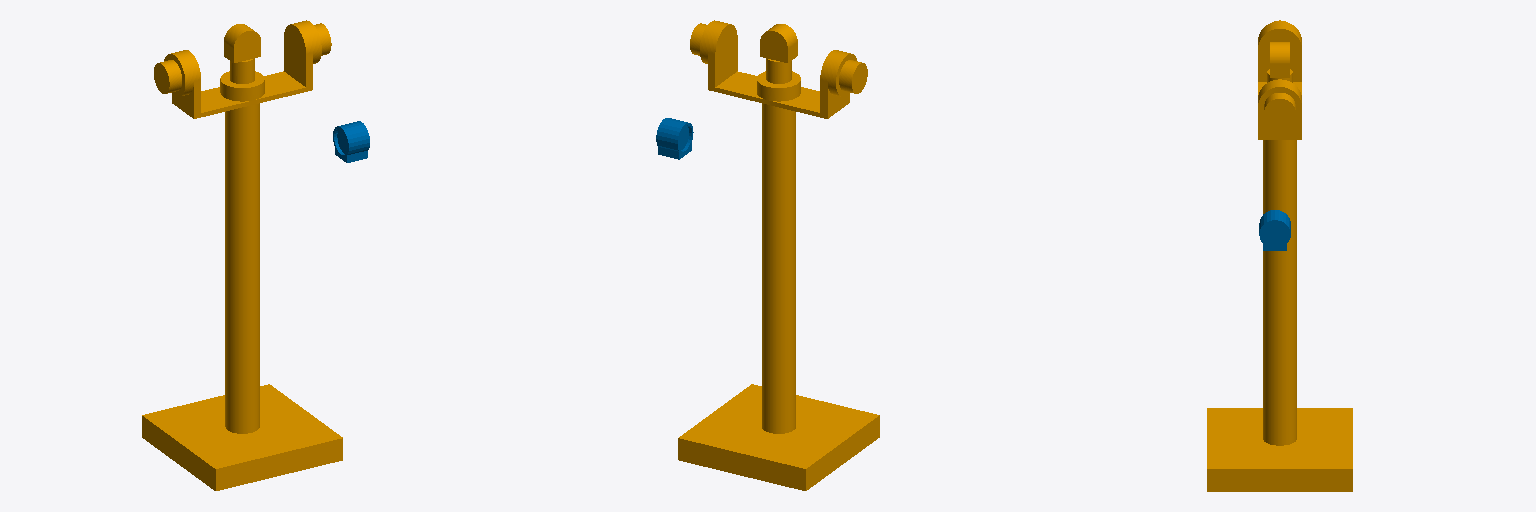
URDF robot description (test_robot):
<?xml version="1.0" ?>
<robot name="test_robot">

  <material name="black">
    <color rgba="0.0 0.0 0.0 1.0"/>
  </material>
  <material name="orange">
    <color rgba="1.0 0.4 0.0 1.0"/>
  </material>

<!--		 base 		-->
<link name="base">
    <collision>
    <origin rpy="0 0 0" xyz="0 0 0.05"/>
      	<geometry>
        <mesh filename="package://irl_dual_arm/urdf/mesh/base.dae" scale="1 1 1"/>
      	</geometry>
    </collision>
    <visual>
    <origin rpy="0 0 0" xyz="0 0 0.05"/>
 	<geometry>
        <mesh filename="package://irl_dual_arm/urdf/mesh/base.dae" scale="1 1 1"/>
      </geometry>
    </visual>
  </link>

  <joint name="joint1" type="revolute">
    <parent link="base"/>
    <child link="link1"/>
    <origin rpy="1.571 0 1.571" xyz="0.19 0 0.88"/>
    <axis xyz="0 0 1"/>
    <limit effort="30" lower="-1.0467" upper="3.14" velocity="1.571"/>
  </joint>

<!-- 		link1 		-->
  <link name="link1">
    <collision>
      <origin rpy="0 0 1.571" xyz="0 0 0"/>
      <geometry>
        <mesh filename="package://irl_dual_arm/urdf/mesh/link1.dae" scale="1 1 1"/>
      </geometry>
    </collision>
    <visual>
      <origin rpy="0 0 1.571" xyz="0 0 0"/>
      <geometry>
        <mesh filename="package://irl_dual_arm/urdf/mesh/link1.dae" scale="1 1 1"/>
      </geometry>
    </visual>
    <inertial>
      <origin rpy="0 0 1.571" xyz="0 0 0"/>
      <mass value="1"/>
      <inertia ixx="1.0" ixy="0.0" ixz="0.0" iyy="1.0" iyz="0.0" izz="1.0"/>
    </inertial>
  </link>

  <joint name="joint2" type="revolute">
    <parent link="link1"/>
    <child link="link2"/>
    <origin rpy="0 1.571 0" xyz="-0.04 0 0.06"/>
    <axis xyz="0 0 1"/>
    <limit effort="30" lower="-2.355" upper="0.3489" velocity="1.571"/>
  </joint>

<!-- link2 -->
  <link name="link2">
    <collision>
      <origin rpy="0 0 0" xyz="0 0 0"/>
       <geometry>
        <mesh filename="package://irl_dual_arm/urdf/mesh/link2.dae" scale="1 1 1"/>
      </geometry>
    </collision>
    <visual>
      <origin rpy="0 0 0" xyz="0 0 0"/>
      <geometry>
        <mesh filename="package://irl_dual_arm/urdf/mesh/link2.dae" scale="1 1 1"/>
      </geometry>
    </visual>
    <inertial>
      <origin rpy="0 0 0" xyz="0 0 0"/>
      <mass value="1"/>
      <inertia ixx="1.0" ixy="0.0" ixz="0.0" iyy="1.0" iyz="0.0" izz="1.0"/>
    </inertial>
  </link>

  <joint name="joint3" type="revolute">
    <parent link="link2"/>
    <child link="link3"/>
    <origin rpy="1.571 0 0" xyz="0 -0.04 0.03"/>		
    <axis xyz="0 0 1"/>
    <limit effort="30" lower="-1.74" upper="0.611" velocity="1.571"/>
  </joint>

<!-- link3 -->
  <link name="link3">
      <collision>
      <origin rpy="0 0 0" xyz="0 0 0"/>
       <geometry>
        <mesh filename="package://irl_dual_arm/urdf/mesh/link3.dae" scale="1 1 1"/>
      </geometry>
    </collision>
    <visual>
      <origin rpy="0 0 3.14" xyz="0 0 0"/>
      <geometry>
        <mesh filename="package://irl_dual_arm/urdf/mesh/link3.dae" scale="1 1 1"/>
      </geometry>
    </visual>
    <inertial>
      <origin rpy="0 0 0" xyz="0 0 0"/>
      <mass value="1"/>
      <inertia ixx="1.0" ixy="0.0" ixz="0.0" iyy="1.0" iyz="0.0" izz="1.0"/>
    </inertial>
  </link>


  <joint name="joint4" type="revolute">
    <parent link="link3"/>
    <child link="link4"/>
    <origin rpy="0 -1.571 0" xyz="-0.025 0 0.2"/>
    <axis xyz="0 0 1"/>
    <limit effort="30" lower="0" upper="1.221" velocity="2.093"/>
  </joint>

<!-- link4 -->
  <link name="link4">
      <collision>
      <origin rpy="0 0 0" xyz="0 0 0"/>
       <geometry>
        <mesh filename="package://irl_dual_arm/urdf/mesh/link4.dae" scale="1 1 1"/>
      </geometry>
    </collision>
    <visual>
      <origin rpy="3.14 0 -1.571" xyz="0 0 0"/>
      <geometry>
        <mesh filename="package://irl_dual_arm/urdf/mesh/link4.dae" scale="1 1 1"/>
      </geometry>
    </visual>
    <inertial>
      <origin rpy="0 0 0" xyz="0 0 0"/>
      <mass value="1"/>
      <inertia ixx="1.0" ixy="0.0" ixz="0.0" iyy="1.0" iyz="0.0" izz="1.0"/>
    </inertial>
  </link>

  <joint name="joint5" type="revolute">
    <parent link="link4"/>
    <child link="link5"/>
    <origin rpy="0 1.571 0" xyz="0.04 0 -0.025"/>
    <axis xyz="0 0 1"/>
    <limit effort="30" lower="-1.74" upper="1.74" velocity="1.571"/>
  </joint>

<!-- link5 -->
  <link name="link5">
       <collision>
      <origin rpy="0 0 0" xyz="0 0 0"/>
       <geometry>
        <mesh filename="package://irl_dual_arm/urdf/mesh/link5.dae" scale="1 1 1"/>
      </geometry>
    </collision>
    <visual>
      <origin rpy="0 0 0" xyz="0 0 0"/>
      <geometry>
        <mesh filename="package://irl_dual_arm/urdf/mesh/link5.dae" scale="1 1 1"/>
      </geometry>
    </visual>
    <inertial>
      <origin rpy="0 0 0" xyz="0 0 0"/>
      <mass value="1"/>
      <inertia ixx="1.0" ixy="0.0" ixz="0.0" iyy="1.0" iyz="0.0" izz="1.0"/>
    </inertial>
  </link>

<!-- robotis's 3DOF gripper -->
<!--
  <joint name="joint6" type="revolute">
    <parent link="link4"/>
    <child link="link5"/>
    <origin rpy="0 0 0" xyz="0 0 0"/>
    <axis xyz="0 0 1"/>
    <limit effort="30" lower="-1.74" upper="1.74" velocity="1.571"/>
  </joint>


  <link name="link6">
       <collision>
      <origin rpy="0 0 0" xyz="0 0 0"/>
       <geometry>
        <mesh filename="package://irl_dual_arm/urdf/mesh/gripper.dae" scale="1 1 1"/>
      </geometry>
    </collision>
    <visual>
      <origin rpy="0 0 0" xyz="0 0 0"/>
      <geometry>
        <mesh filename="package://irl_dual_arm/urdf/mesh/gripper.dae" scale="1 1 1"/>
      </geometry>
    </visual>
    <inertial>
      <origin rpy="0 0 0" xyz="0 0 0"/>
      <mass value="1"/>
      <inertia ixx="1.0" ixy="0.0" ixz="0.0" iyy="1.0" iyz="0.0" izz="1.0"/>
    </inertial>
  </link>
-->
</robot>

--- Facts derived from the render (not from the file) ---
Views: 3 orthographic renders of the robot side by side, from view 1: azimuth 30°, elevation 25°; view 2: azimuth 150°, elevation 25°; view 3: azimuth 270°, elevation 25°.
Model test_robot with 6 links and 5 joints (5 revolute), rooted at base, posed all joints at 0.
Visible links, largest first — view 1: base, link4; view 2: base, link4; view 3: base, link4.
Link boxes in pixels (x1,y1,x2,y2): base: [142, 20, 342, 490]; link4: [333, 121, 369, 162]; base: [678, 20, 879, 490]; link4: [656, 118, 693, 159]; base: [1207, 20, 1352, 491]; link4: [1259, 210, 1290, 250].
Size in the robot's own frame: 0.465 by 0.3 by 0.945 metres.
2 mesh visuals loaded from 6 distinct referenced files (2 Collada DAE); not drawn: 4 (file found but could not be loaded).